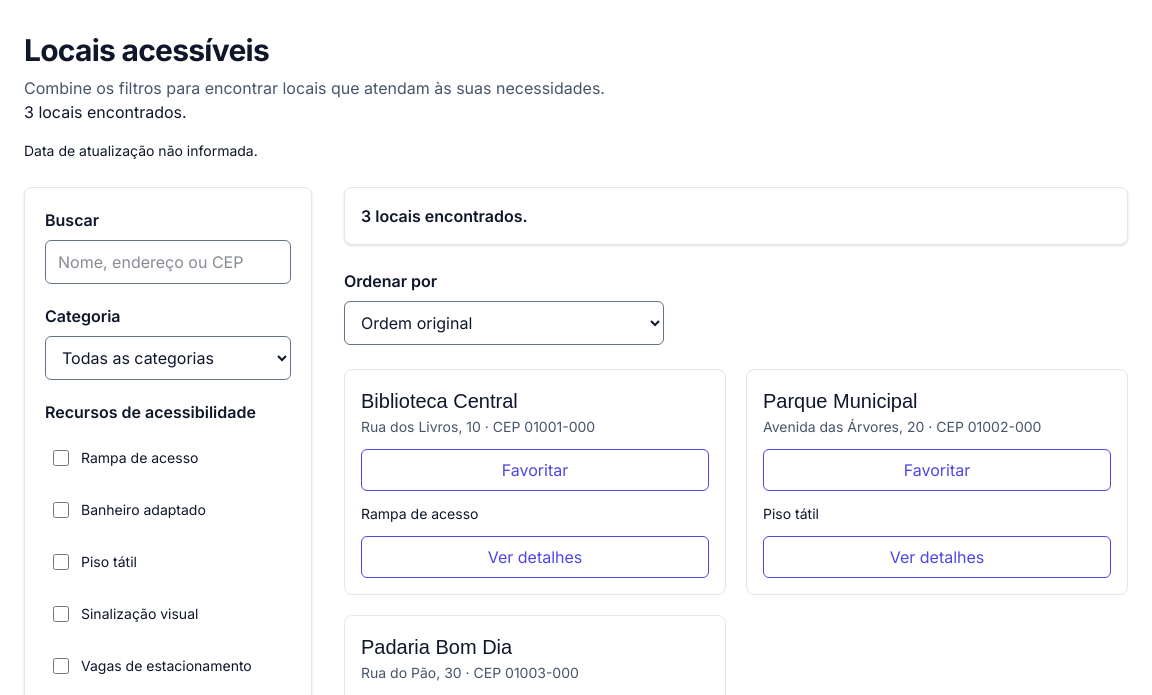
Test: Locais — histórico de buscas › seleciona uma sugestão pelo clique e atualiza os resultados
The width and height of the screenshot is (1152, 695).
Click the dropdown labelled "Buscar" at coordinates (168, 262), box x1=45 y1=240 x2=291 y2=284
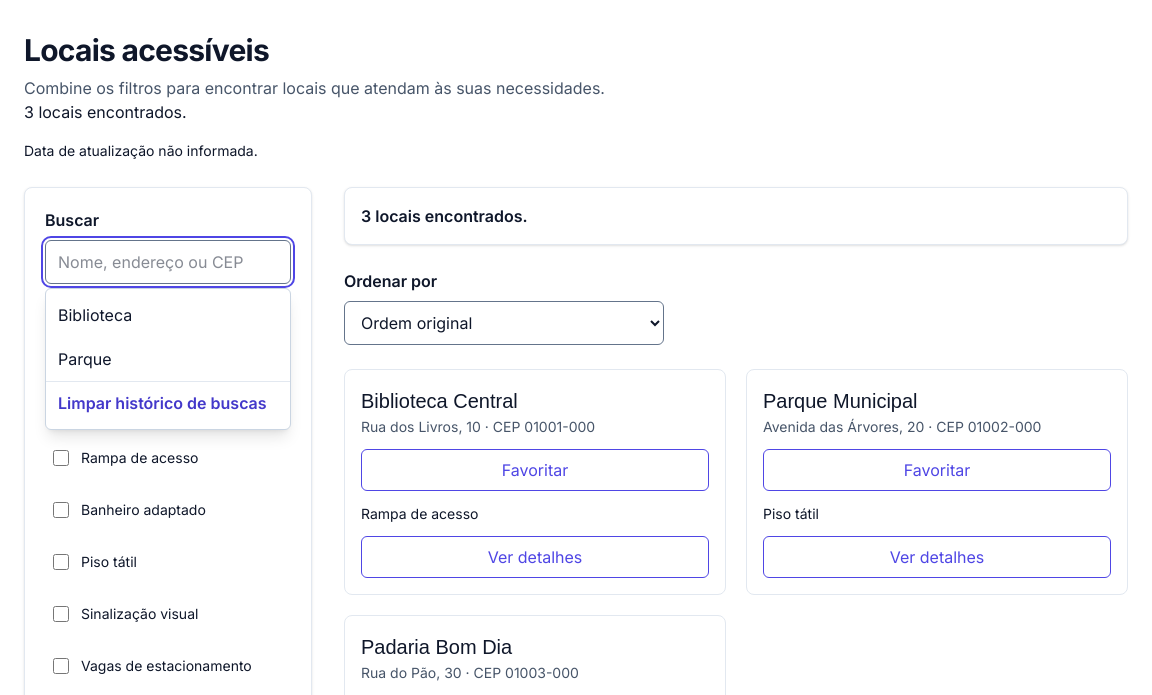
Click the option "Parque" at coordinates (85, 359), box x1=58 y1=349 x2=112 y2=369
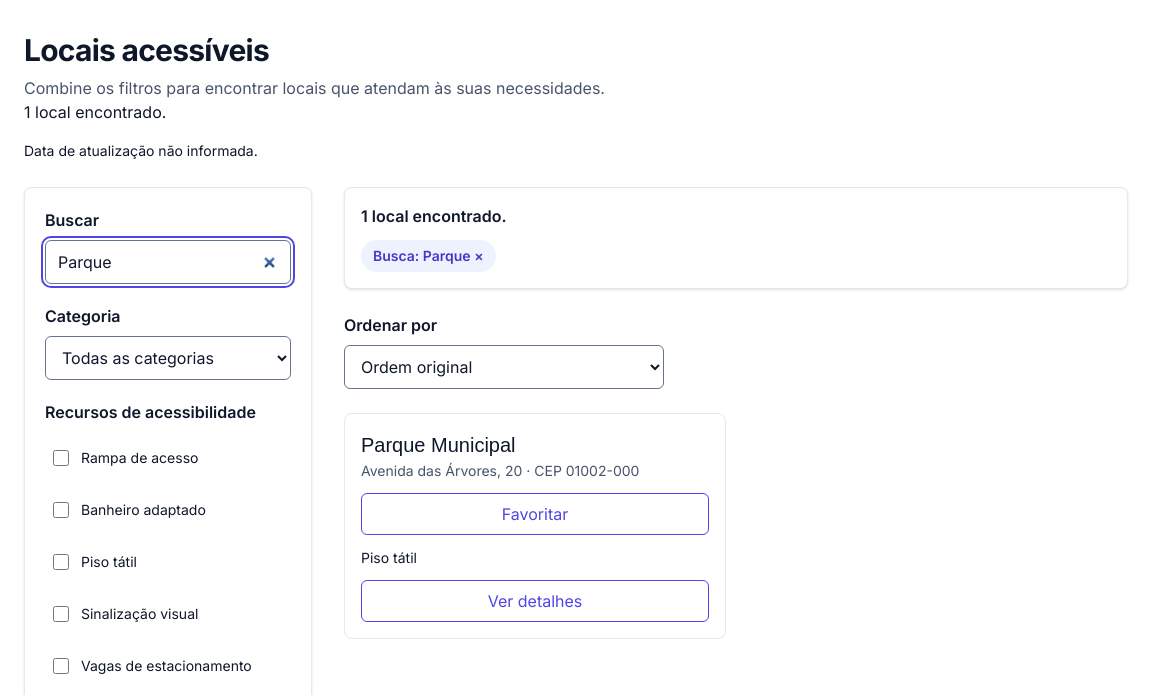
expect the dropdown labelled "Buscar" holds "Parque": met, box x1=45 y1=240 x2=291 y2=284
expect the dropdown labelled "Buscar" is collapsed: met, box x1=45 y1=240 x2=291 y2=284
